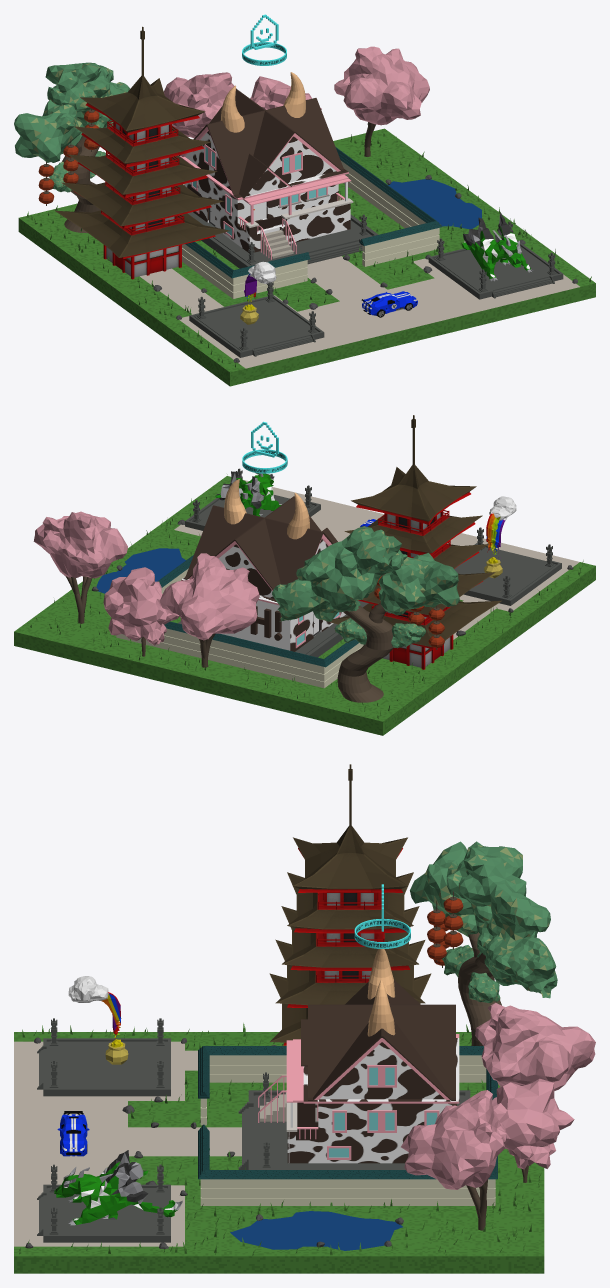
3 renders of one model, top to bottom at view 1: azimuth 30°, elevation 25°; view 2: azimuth 150°, elevation 25°; view 3: azimuth 270°, elevation 25°, orthographic. The views are drawn at different scales.
Visible parts, largest first — view 1: Cube.005, Cube.1242, ANIMAL_DRAGON, OBJRANDOM_RAINBOW, VEHICLES_RACING_CAR, TYPE_PREMIUM; view 2: Cube.005, Cube.1242, ANIMAL_DRAGON, OBJRANDOM_RAINBOW, TYPE_PREMIUM; view 3: Cube.005, Cube.1242, ANIMAL_DRAGON, OBJRANDOM_RAINBOW, VEHICLES_RACING_CAR, TYPE_PREMIUM.
Part boxes in pixels (x1,y1,x2,y2): Cube.005: (14,26,595,386); Cube.1242: (178,72,353,259); ANIMAL_DRAGON: (462,212,533,281); OBJRANDOM_RAINBOW: (240,261,276,324); VEHICLES_RACING_CAR: (361,291,417,317); TYPE_PREMIUM: (242,14,286,65); Cube.005: (14,415,595,735); Cube.1242: (181,479,345,651); ANIMAL_DRAGON: (215,471,281,516); OBJRANDOM_RAINBOW: (484,496,516,578); TYPE_PREMIUM: (242,421,287,473); Cube.005: (14,764,595,1273); Cube.1242: (258,949,459,1163); ANIMAL_DRAGON: (54,1150,182,1225); OBJRANDOM_RAINBOW: (68,976,128,1064); VEHICLES_RACING_CAR: (57,1111,89,1156); TYPE_PREMIUM: (354,884,410,948).
Size of the model in its own units: 4528 by 2690 by 4389.
Materials: 51 (6 with a texture image).
